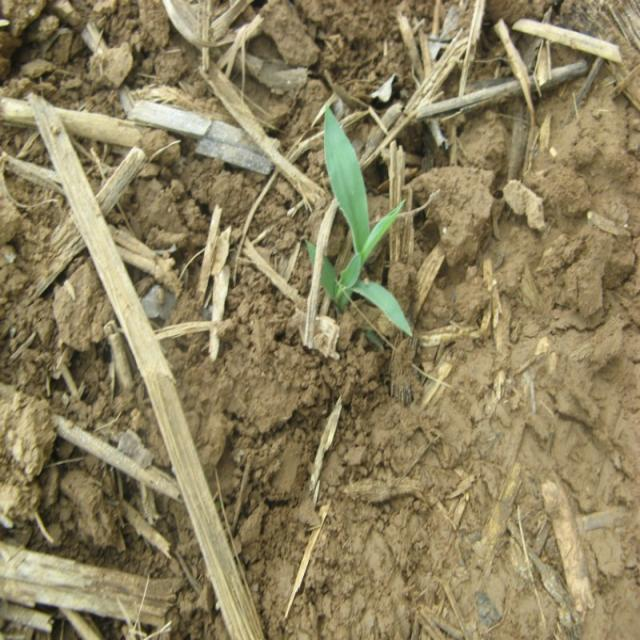bg: (314, 107, 417, 340)
